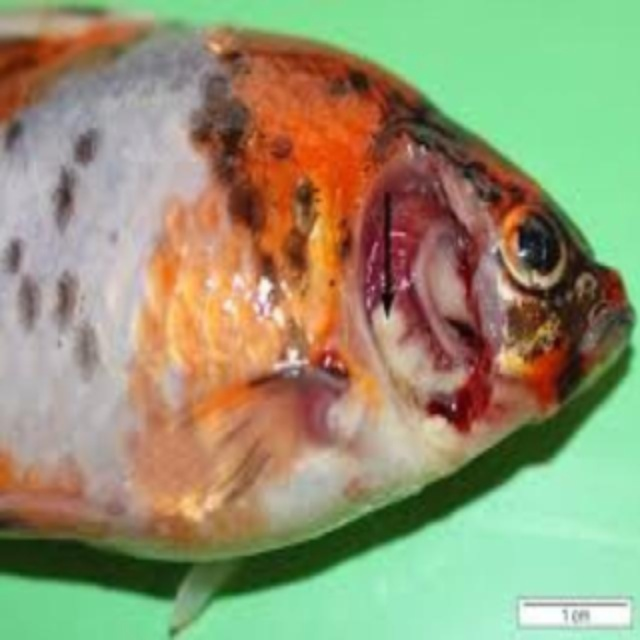EUS Disease: (0, 10, 631, 614), (276, 122, 572, 436)
